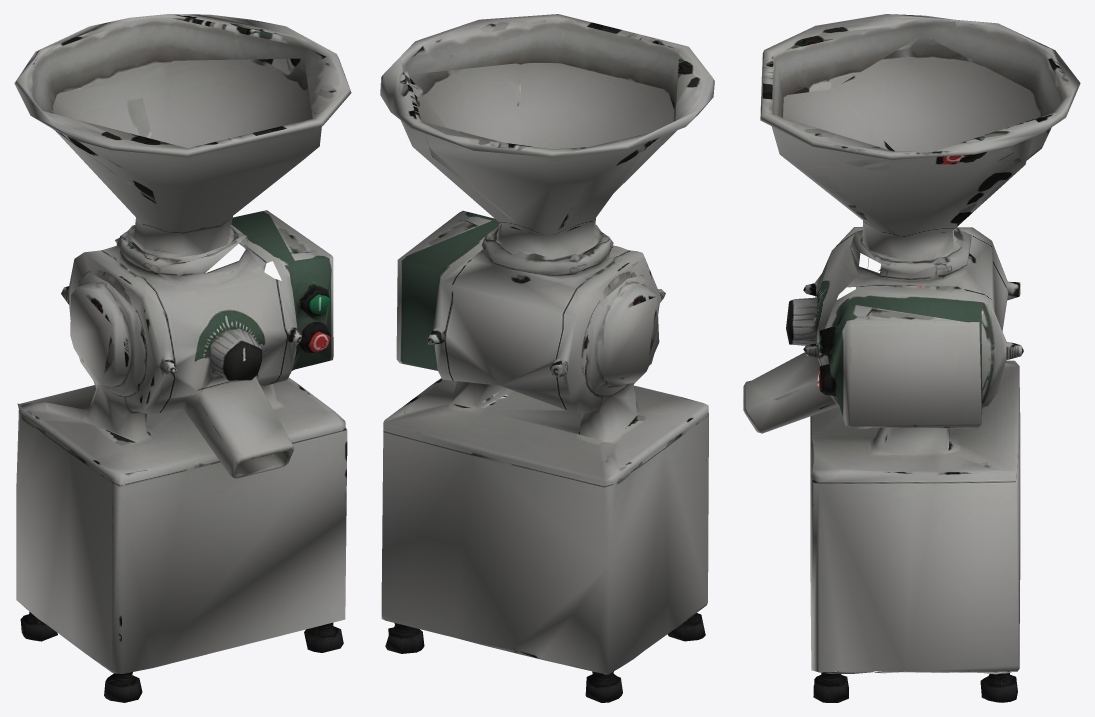
The model's file is mill.glb.
3 views of the same model, side by side, from view 1: azimuth 30°, elevation 25°; view 2: azimuth 150°, elevation 25°; view 3: azimuth 270°, elevation 25° (orthographic).
Parts seen in each view (by area): view 1: tripo_node_32b68111; view 2: tripo_node_32b68111; view 3: tripo_node_32b68111.
Part boxes in pixels (x1=…): tripo_node_32b68111: x1=14, y1=14, x2=351, y2=702; tripo_node_32b68111: x1=380, y1=14, x2=714, y2=702; tripo_node_32b68111: x1=743, y1=14, x2=1080, y2=702.
Size of the model in its own units: 0.9349 by 1.72 by 0.9321.
Materials: 1 (1 with a texture image).
